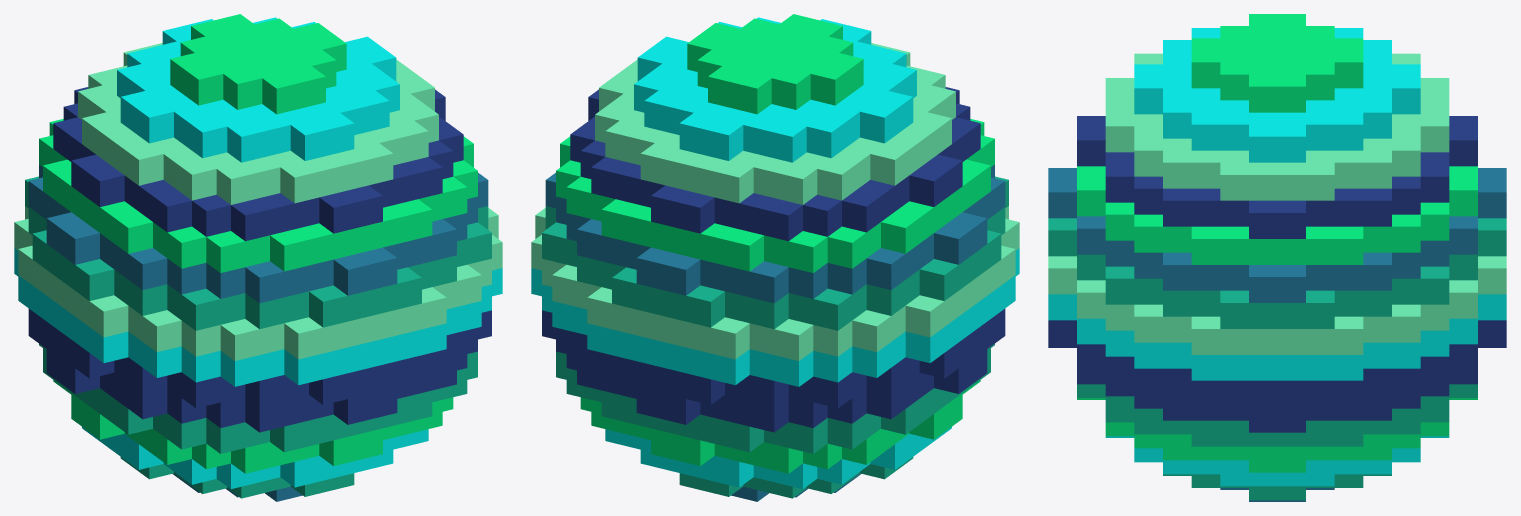
File: planetas-14-verdelistrado.obj
3 renders of one model, left to right at view 1: azimuth 30°, elevation 25°; view 2: azimuth 150°, elevation 25°; view 3: azimuth 270°, elevation 25°, orthographic.
Size of the model in its own units: 1.6 by 1.6 by 1.6.
Materials: 1 (1 with a texture image).
